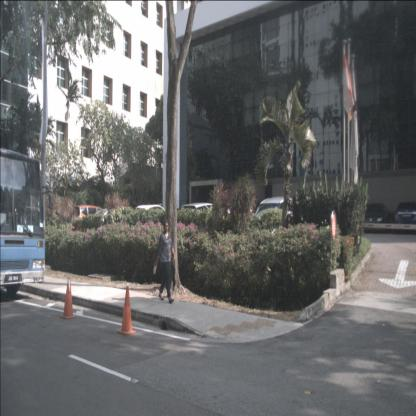human-pedestrian-adult: (153, 219, 176, 303)
movable_object-trafficcone: (117, 285, 137, 336), (59, 276, 77, 320)
vehicle-bus-rigid: (0, 145, 46, 296)
vehicle-car: (252, 196, 304, 243), (179, 201, 227, 235), (133, 203, 168, 235), (74, 203, 110, 232), (361, 202, 389, 233), (394, 201, 416, 235)
